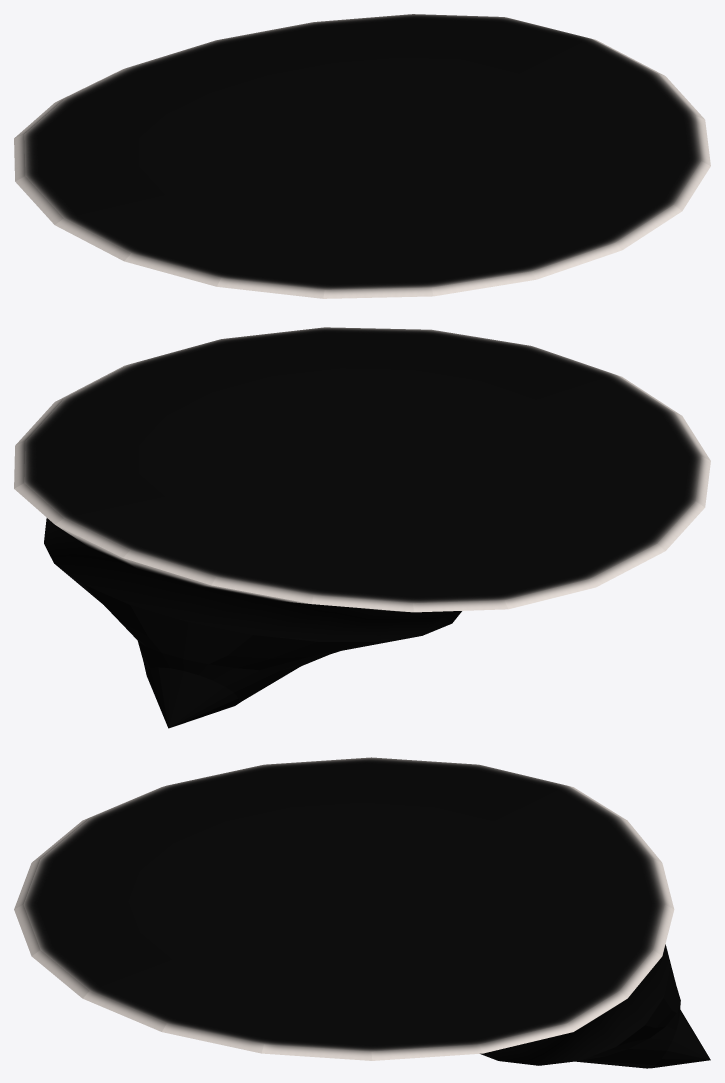
File: shelf_coral.fbx
The picture shows the model from 3 angles, top to bottom: view 1: azimuth 30°, elevation 25°; view 2: azimuth 150°, elevation 25°; view 3: azimuth 270°, elevation 25°; orthographic projection.
Parts seen in each view (by area): view 1: pCylinder1; view 2: pCylinder1; view 3: pCylinder1.
Boxes of the visible parts, left/top/right/bottom form: pCylinder1: left=14, top=14, right=710, bottom=298; pCylinder1: left=14, top=327, right=710, bottom=728; pCylinder1: left=14, top=757, right=710, bottom=1068.
Size of the model in its own units: 6.93 by 1.56 by 6.74.
1 material, 1 textured.
